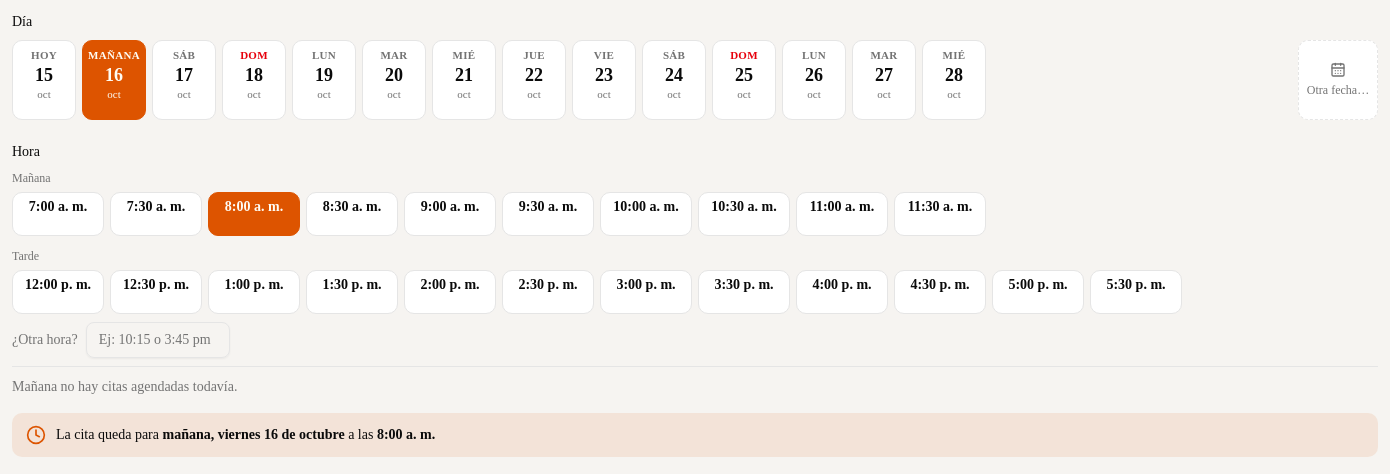
SelectorFechaHora › acepta una hora escrita a mano y la muestra aunque no esté en la grilla
The width and height of the screenshot is (1390, 474).
Step 1. Type "10:15" into the field labelled "¿Otra hora?" → {"x": 158, "y": 340}, box [86,322,230,358]
Then press Enter
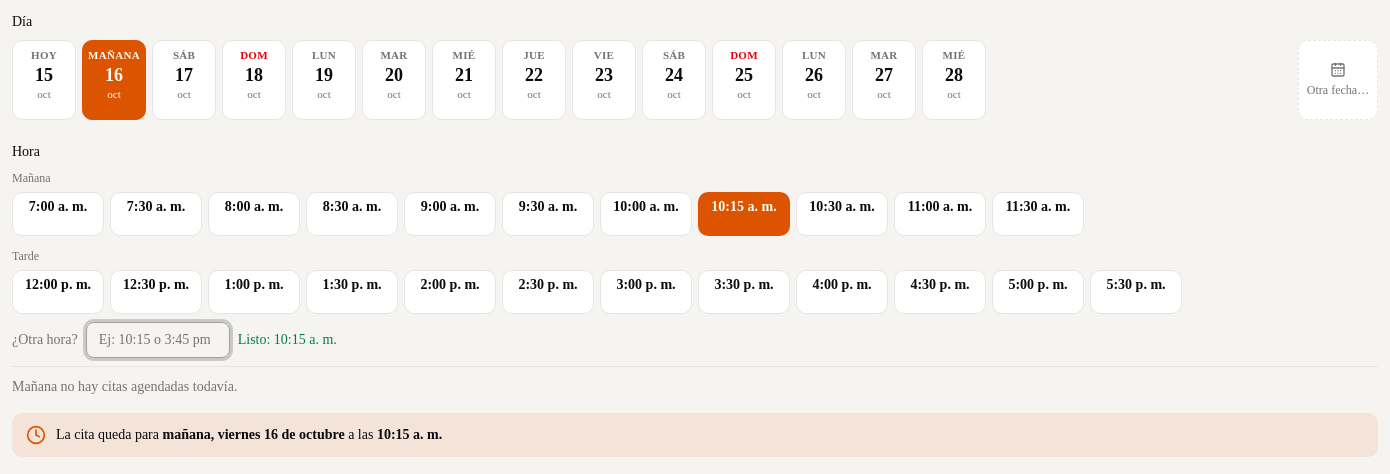
Step 2. Type "banana" into the field labelled "¿Otra hora?" → {"x": 158, "y": 340}, box [86,322,230,358]
Then press Enter
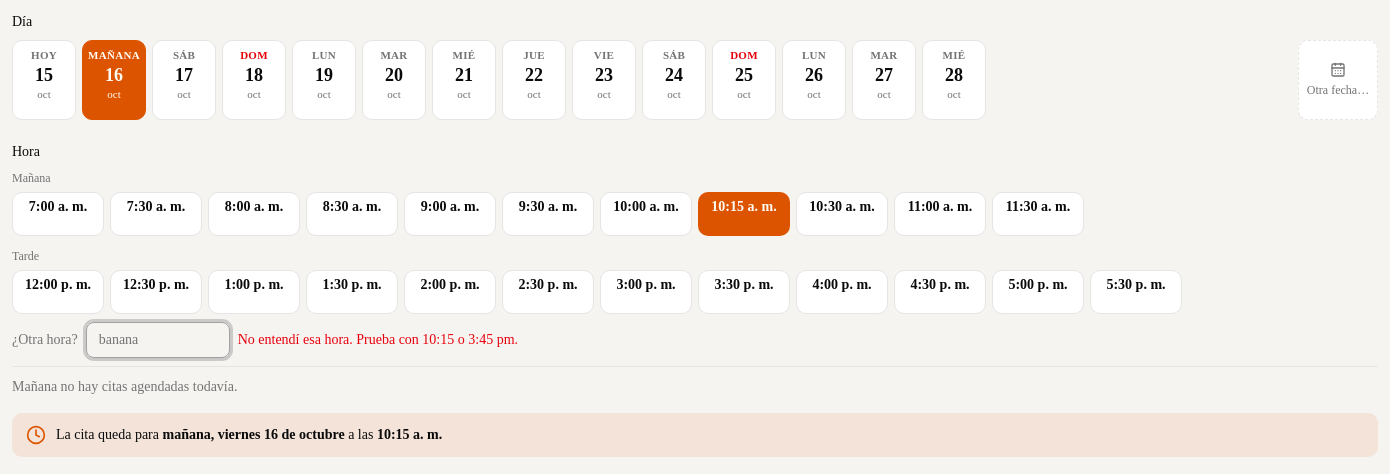
Expected: the text "No entendí esa hora. Prueba con 10:15 o 3:45 pm." is shown, [238,330,518,350]
